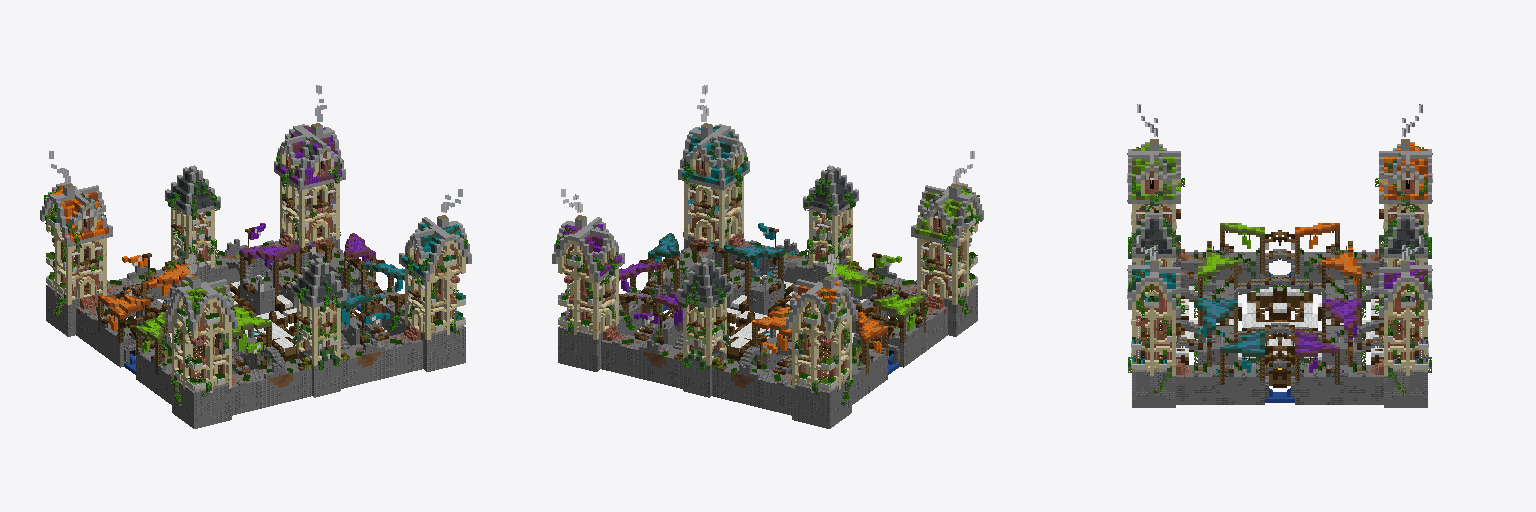
3 renders of one model, left to right at view 1: azimuth 30°, elevation 25°; view 2: azimuth 150°, elevation 25°; view 3: azimuth 270°, elevation 25°, orthographic.
Size of the model in its own units: 73.38 by 43 by 69.38.
84 materials, 31 textured.